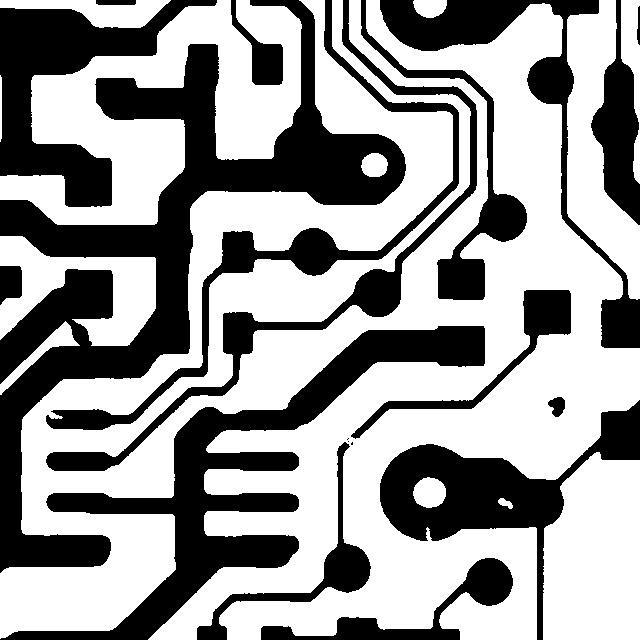copper: (538, 387, 574, 426)
mousebite: (36, 402, 72, 428), (416, 517, 441, 551)
open: (332, 424, 369, 456)
pin-hole: (488, 488, 522, 518)
short: (55, 305, 101, 358)
